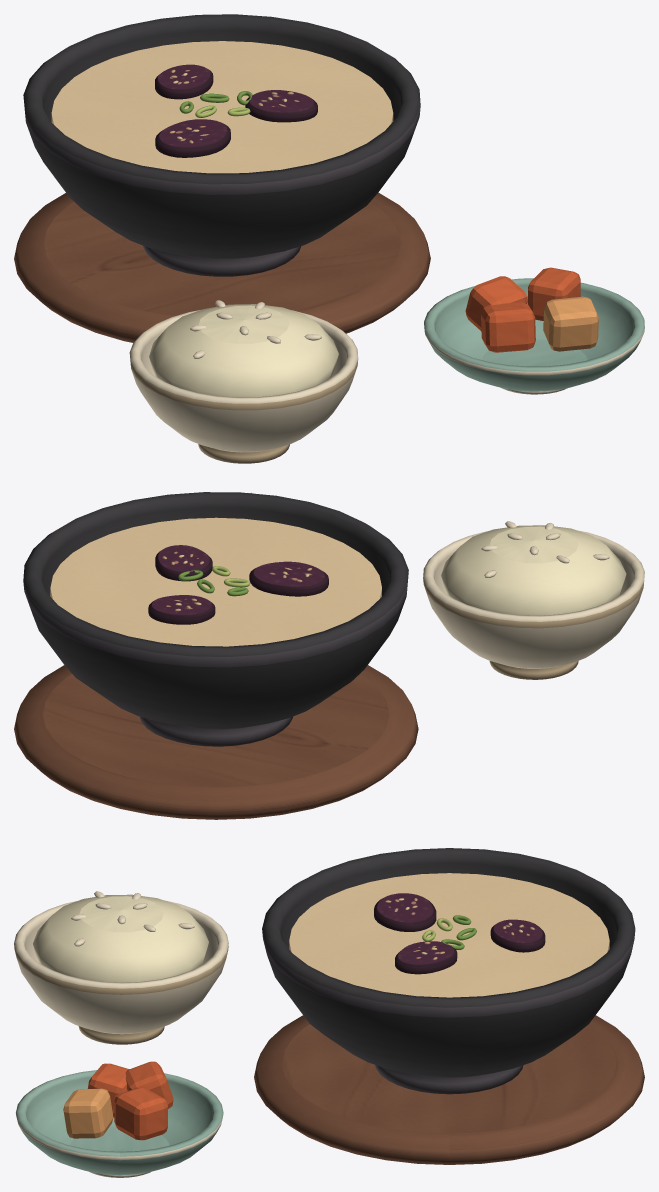
The model's file is SM_GukbapMeal.fbx.
The picture shows the model from 3 angles, top to bottom: view 1: azimuth 30°, elevation 25°; view 2: azimuth 150°, elevation 25°; view 3: azimuth 270°, elevation 25°; orthographic projection. The views are drawn at different scales.
Parts seen in each view (by area): view 1: SM_GukbapMeal; view 2: SM_GukbapMeal; view 3: SM_GukbapMeal.
Part boxes in pixels (box(x1,y1,x2,y2)): SM_GukbapMeal: box(14, 14, 644, 463); SM_GukbapMeal: box(14, 492, 644, 819); SM_GukbapMeal: box(14, 848, 644, 1177).
Bounding box in the file's own units: 29.8 × 35.82 × 11.
Materials: 1 (1 with a texture image).
